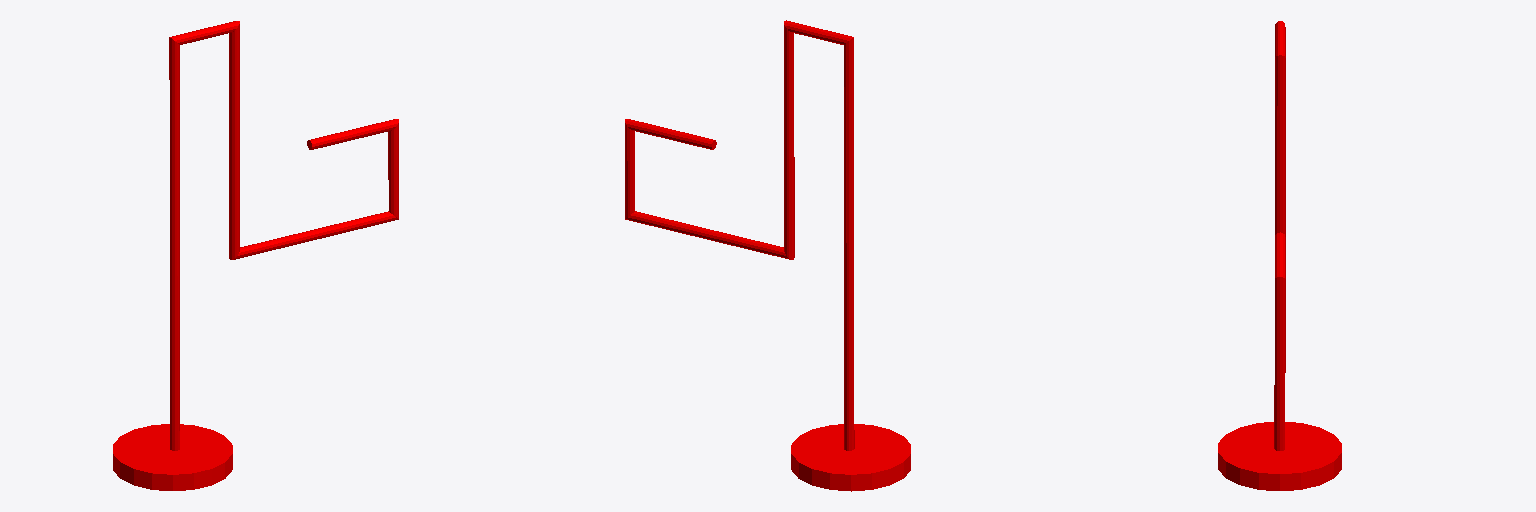
The robot description file, URDF, robot "ring":
<?xml version="0.0" ?>
<robot name="ring">
    <material name="white">
        <color rgba="1 0 0 1"/>
    </material>

    <link name="baseLink">
        <!-- from lego/lego.urdf -->
        <contact>
            <lateral_friction value="1.0"/>
            <rolling_friction value="0.0"/>
            <contact_cfm value="0.0"/>
            <contact_erp value="1.0"/>
        </contact>
        <inertial>
            <origin rpy="0 0 0" xyz="0 0 0"/>
            <mass value="0.01"/>
            <inertia ixx="1" ixy="0" ixz="0" iyy="1" iyz="0" izz="1"/>
        </inertial>
        <visual>
            <origin rpy="1.57 0 0" xyz="0 0 0"/>
            <geometry>
                <!--        radius: 10mm, depth: 14.5mm-->
                <mesh filename="meshes/b.obj" scale="1 1 1"/>
                <!--        <box size="0.002 0.002 0.002"/>-->
            </geometry>
            <material name="white"/>
        </visual>
        <collision concave="yes">
            <origin rpy="1.57 0 0" xyz="0 0 0"/>
            <geometry>
                <mesh filename="meshes/b.obj" scale="1 1 1"/>
                       <!-- <box size="2 2 2"/> -->
            </geometry>
        </collision>
    </link>
</robot>

--- What the picture shows (computed from the rendered views, not written in the file) ---
Views: 3 orthographic renders of the robot side by side, from view 1: azimuth 30°, elevation 25°; view 2: azimuth 150°, elevation 25°; view 3: azimuth 270°, elevation 25°.
Model ring with 1 links and 0 joints (none), rooted at baseLink, posed all joints at 0.
Visible links, largest first — view 1: baseLink; view 2: baseLink; view 3: baseLink.
Boxes of the visible links, box(x1,y1,x2,y2) form: baseLink: box(113, 21, 398, 490); baseLink: box(625, 20, 910, 491); baseLink: box(1218, 21, 1341, 490).
Bounding box of the posed robot: 2.32 × 0.8646 × 3.42 m (x, y, z).
Meshes: 1 distinct files referenced, 1 mesh visuals loaded (1 OBJ).